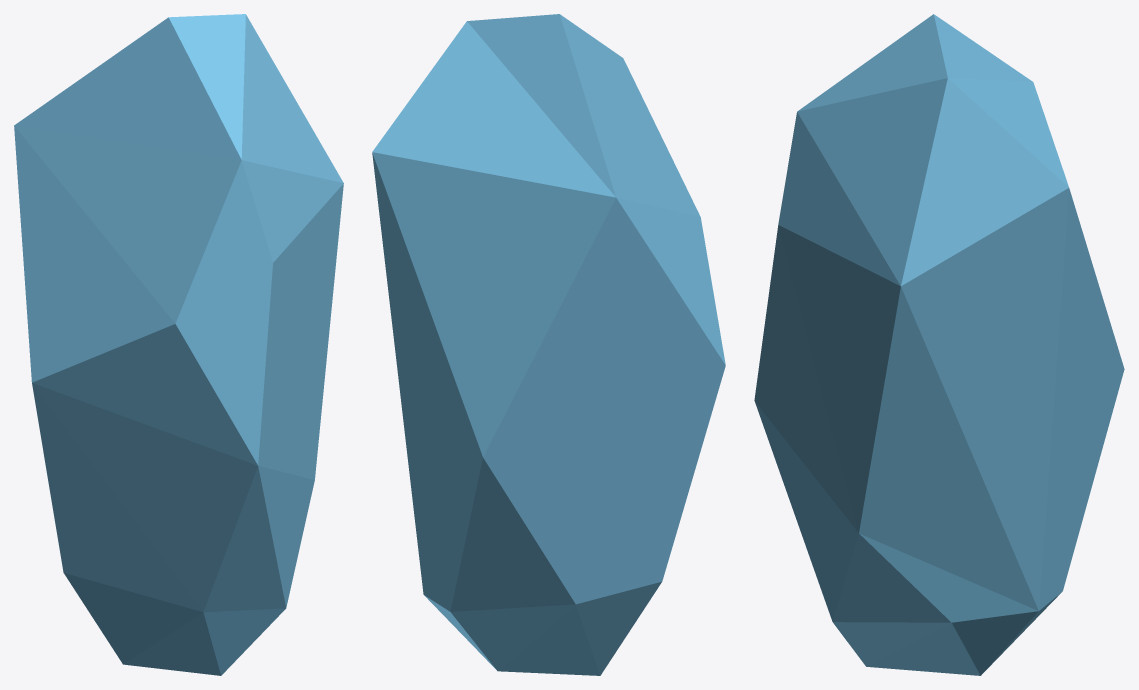
The model's file is DiamondB.fbx.
The picture shows the model from 3 angles, left to right: view 1: azimuth 30°, elevation 25°; view 2: azimuth 150°, elevation 25°; view 3: azimuth 270°, elevation 25°; orthographic projection.
Visible parts, largest first — view 1: DiamondB; view 2: DiamondB; view 3: DiamondB.
Boxes of the visible parts, x1,y1,x2,y2 form: DiamondB: (14,14,343,675); DiamondB: (372,14,725,675); DiamondB: (754,14,1124,675).
Size of the model in its own units: 21.6 by 42.67 by 22.25.
